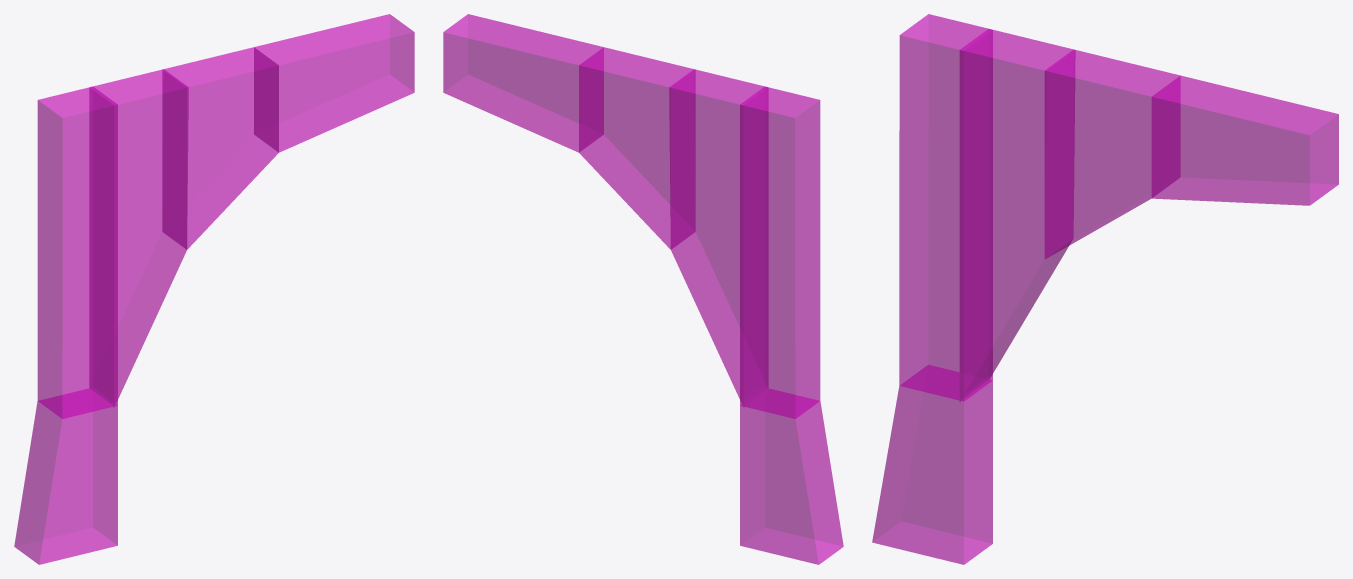
File: SM_Bld_Wall_Arch_Edge_01_Collision.fbx
3 views of the same model, side by side, from view 1: azimuth 30°, elevation 25°; view 2: azimuth 150°, elevation 25°; view 3: azimuth 330°, elevation 25° (orthographic). The views are drawn at different scales.
Parts seen in each view (by area): view 1: SM_Bld_Wall_Arch_Edge_01_Collision; view 2: SM_Bld_Wall_Arch_Edge_01_Collision; view 3: SM_Bld_Wall_Arch_Edge_01_Collision.
Part boxes in pixels (x1,y1,x2,y2): SM_Bld_Wall_Arch_Edge_01_Collision: [14, 14, 414, 564]; SM_Bld_Wall_Arch_Edge_01_Collision: [443, 14, 843, 564]; SM_Bld_Wall_Arch_Edge_01_Collision: [872, 14, 1338, 564].
Size of the model in its own units: 272 by 305 by 31.19.
